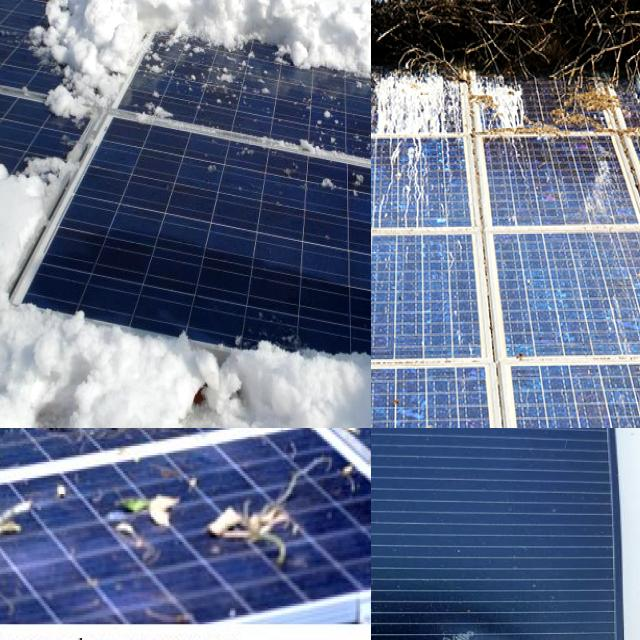bird: (371, 77, 471, 211), (478, 86, 614, 132), (573, 152, 623, 220)
panel: (0, 0, 102, 123), (0, 246, 103, 367), (115, 0, 277, 74), (217, 331, 371, 407), (294, 3, 371, 116), (116, 306, 205, 382), (22, 0, 230, 30), (0, 139, 77, 220)
